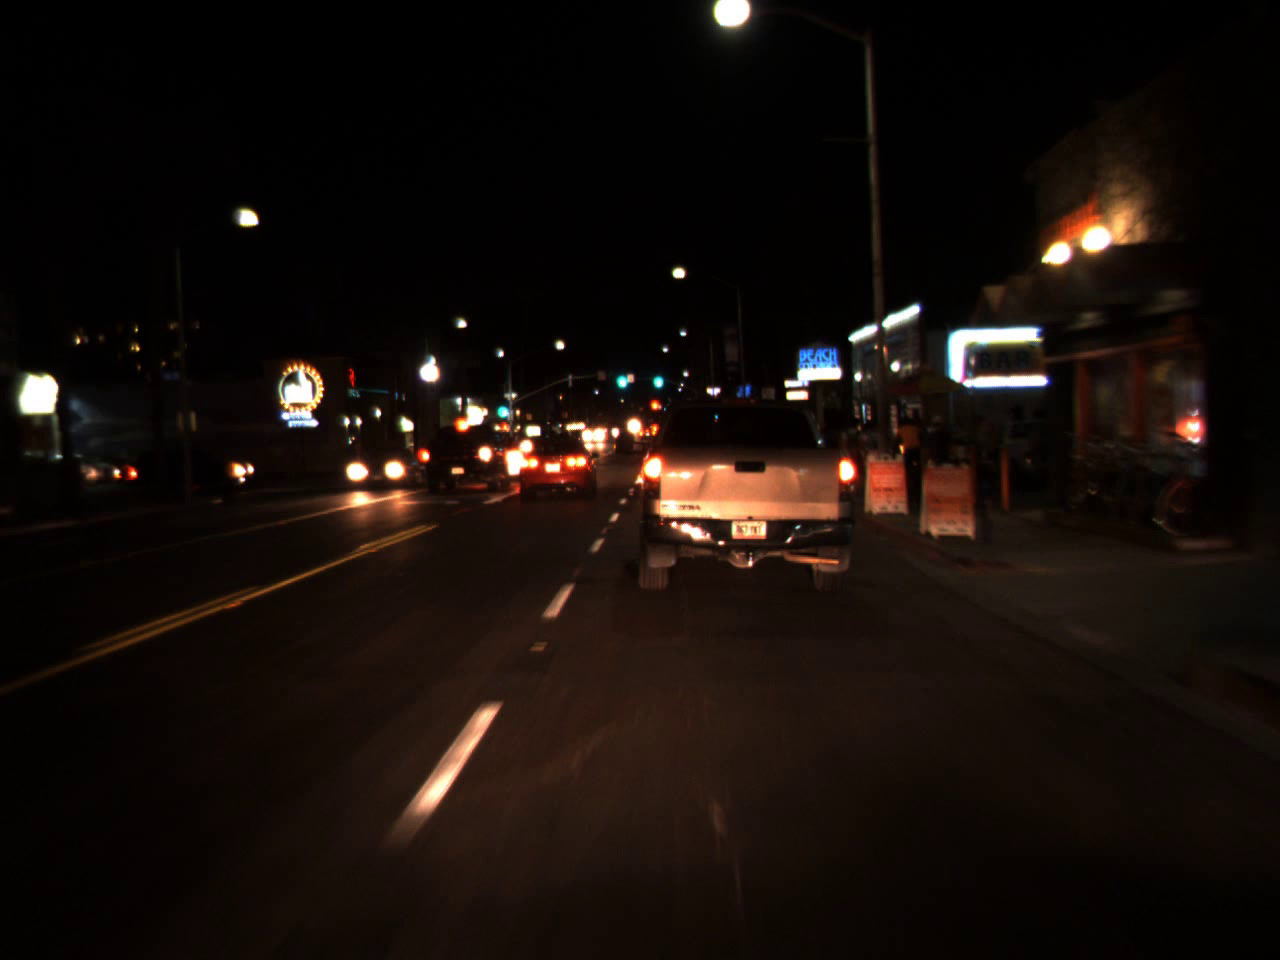go: (613, 362, 631, 392), (493, 392, 511, 422), (649, 364, 665, 391)
